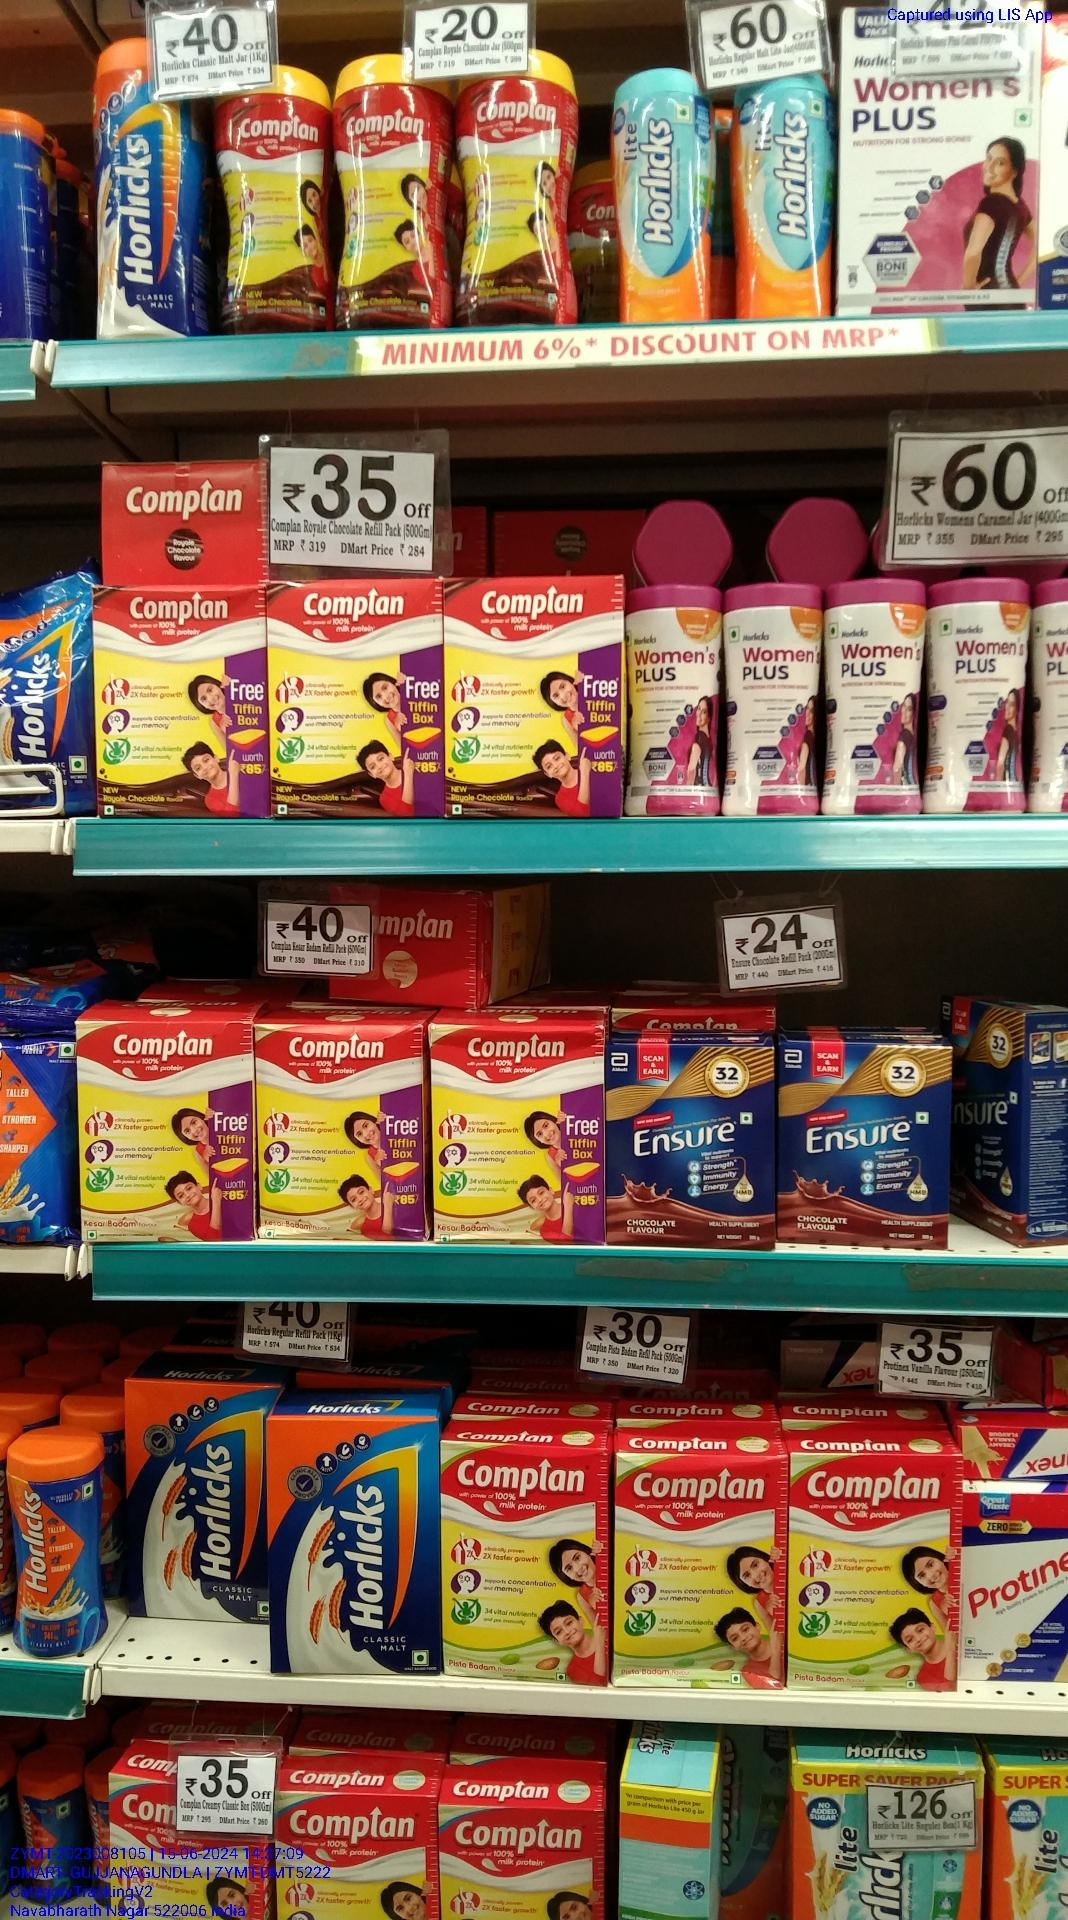COMPLAN_CHOCOLATE_500_GMS_JAR: (338, 55, 454, 329), (462, 62, 581, 326), (216, 62, 331, 333)
COMPLAN_CHOCOLATE_500_GMS_PACK: (451, 577, 623, 819), (92, 587, 271, 815), (278, 581, 447, 817)
COMPLAN_KESAR_BADAM_500_GMS_PACK: (75, 1019, 253, 1241), (433, 1026, 606, 1244), (256, 1023, 426, 1241)
COMPLAN_PISTA_BADAM_500_GMS_PACK: (613, 1456, 788, 1690), (445, 1440, 610, 1683), (792, 1454, 959, 1692)
HORLICKS_LITE_REGULAR_MALT_500_GM_JAR: (614, 67, 713, 324), (731, 64, 830, 321)
HORLICK_CLASSIC_MALT_500_G_JAR: (89, 42, 197, 337)
HORLICK_CLASSIC_MALT_500_G_PACK: (271, 1423, 442, 1673), (125, 1380, 267, 1623)
